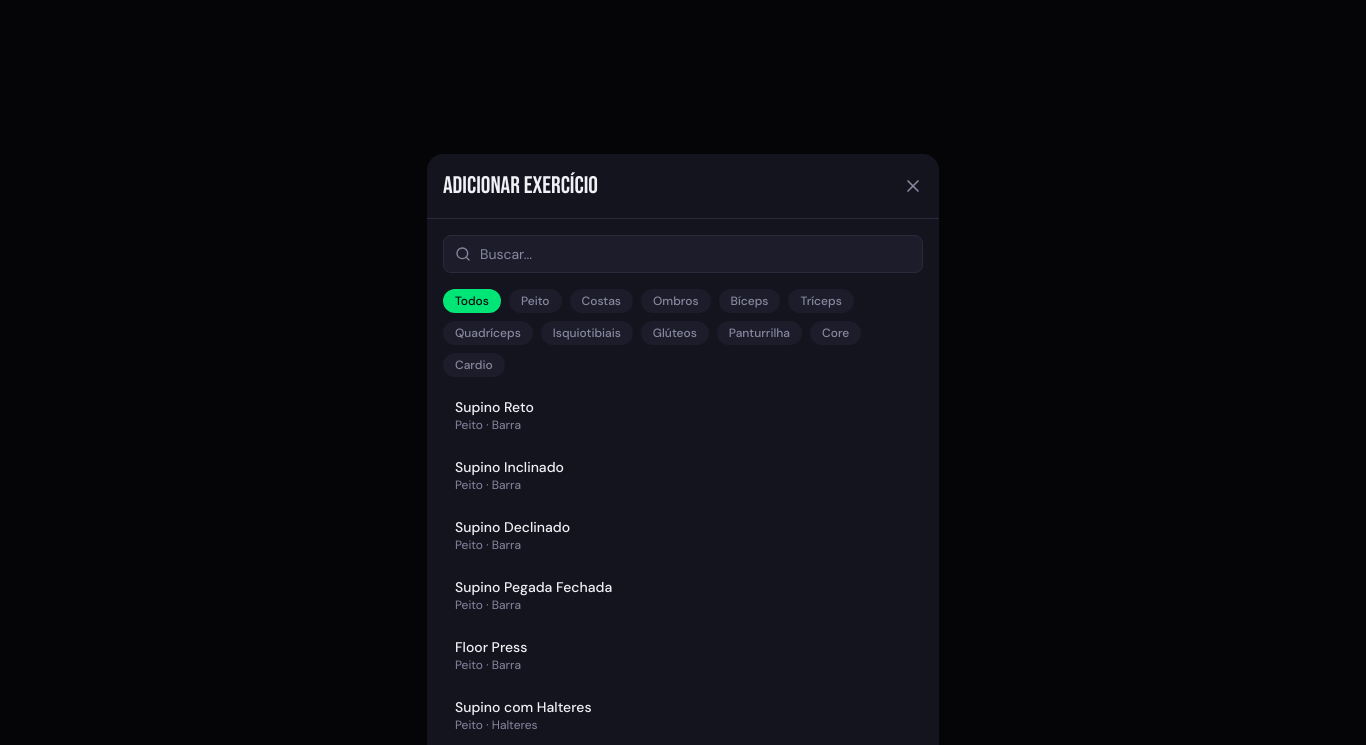
it: ExercisePicker › filters exercises by search
Type "agachamento" into the field with placeholder "Buscar...". click: (683,254)
box: [443, 235, 923, 273]
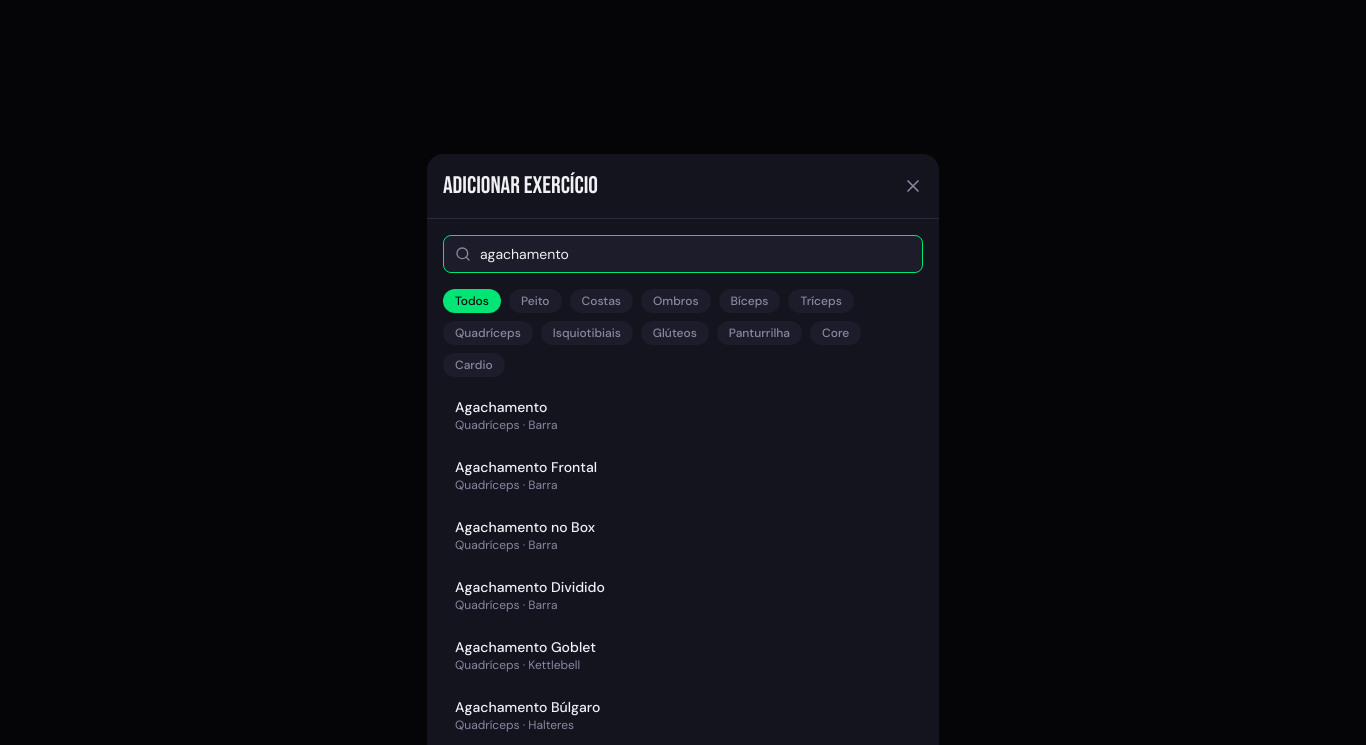
Expected: the text "Agachamento" is shown, [455, 397, 558, 417]
Expected: the text "Agachamento Búlgaro" is shown, [455, 697, 600, 717]
Expected: the button "Supino Reto" is gone
